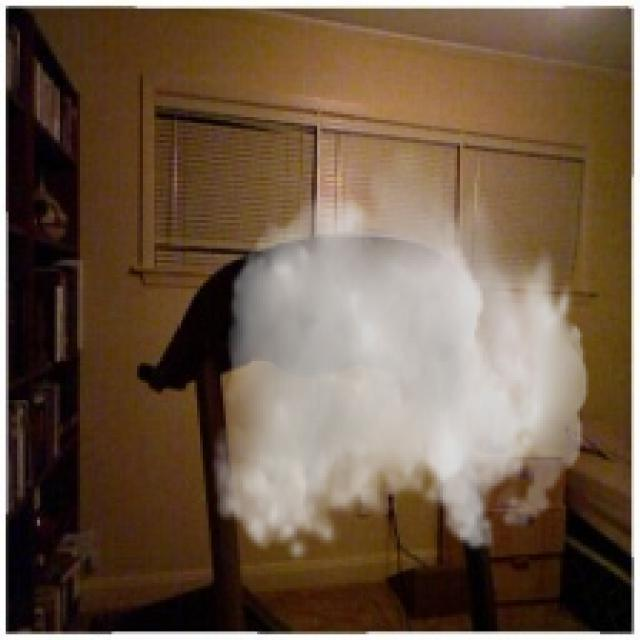Smoke: (212, 137, 588, 563)
